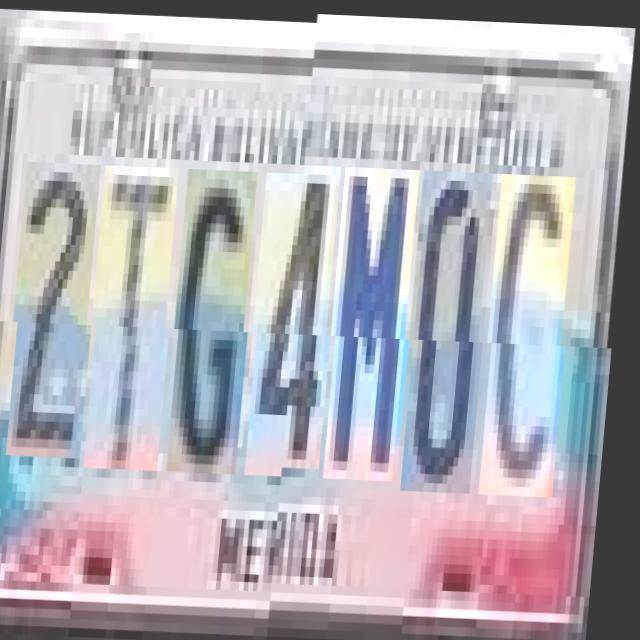0: (408, 175, 499, 498)
2: (15, 162, 109, 458)
4: (254, 170, 348, 475)
C: (487, 178, 582, 501)
G: (175, 168, 265, 472)
M: (331, 173, 426, 487)
T: (92, 164, 187, 469)
